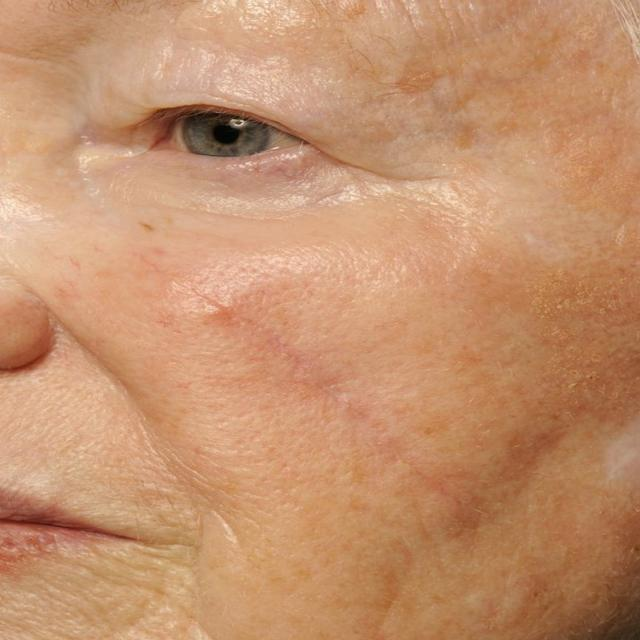wound: (162, 284, 509, 499)
